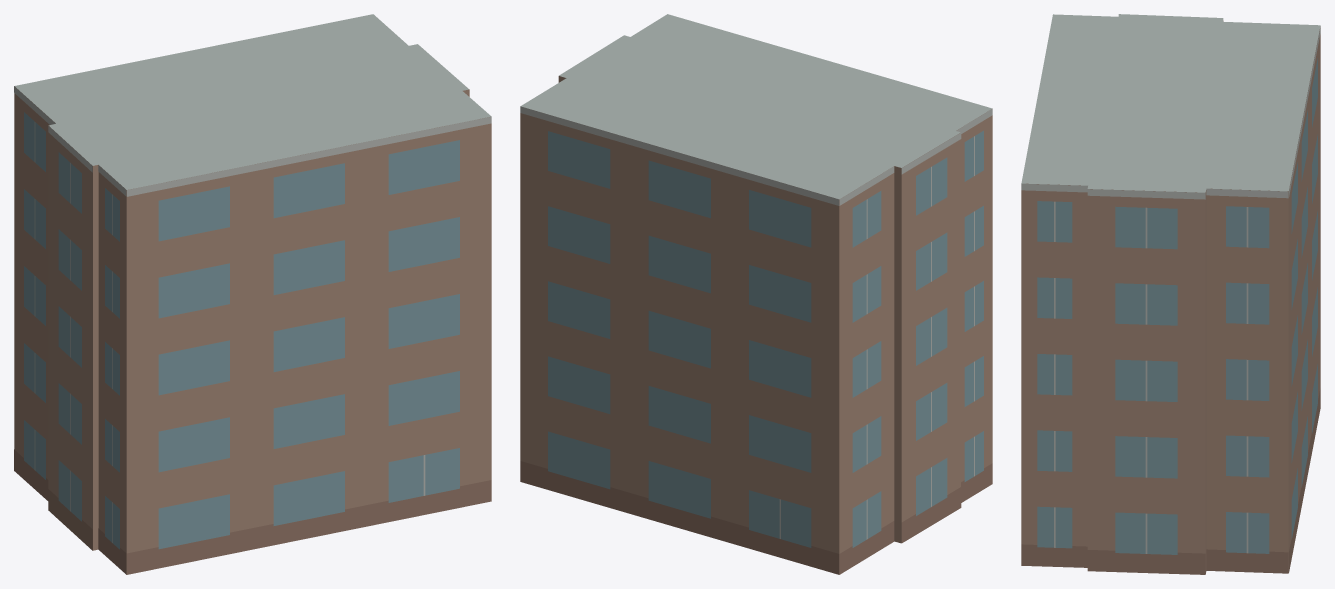
The model's file is survey-upis-32597953.glb.
3 renders of one model, left to right at view 1: azimuth 30°, elevation 25°; view 2: azimuth 150°, elevation 25°; view 3: azimuth 270°, elevation 25°, orthographic. The views are drawn at different scales.
Parts seen in each view (by area): view 1: survey-upis-32597953.tmp; view 2: survey-upis-32597953.tmp; view 3: survey-upis-32597953.tmp.
Boxes of the visible parts, <box> form: survey-upis-32597953.tmp: <box>14,14,491,574</box>; survey-upis-32597953.tmp: <box>520,14,992,574</box>; survey-upis-32597953.tmp: <box>1021,14,1320,574</box>.
Size of the model in its own units: 13.75 by 13.7 by 9.73.
